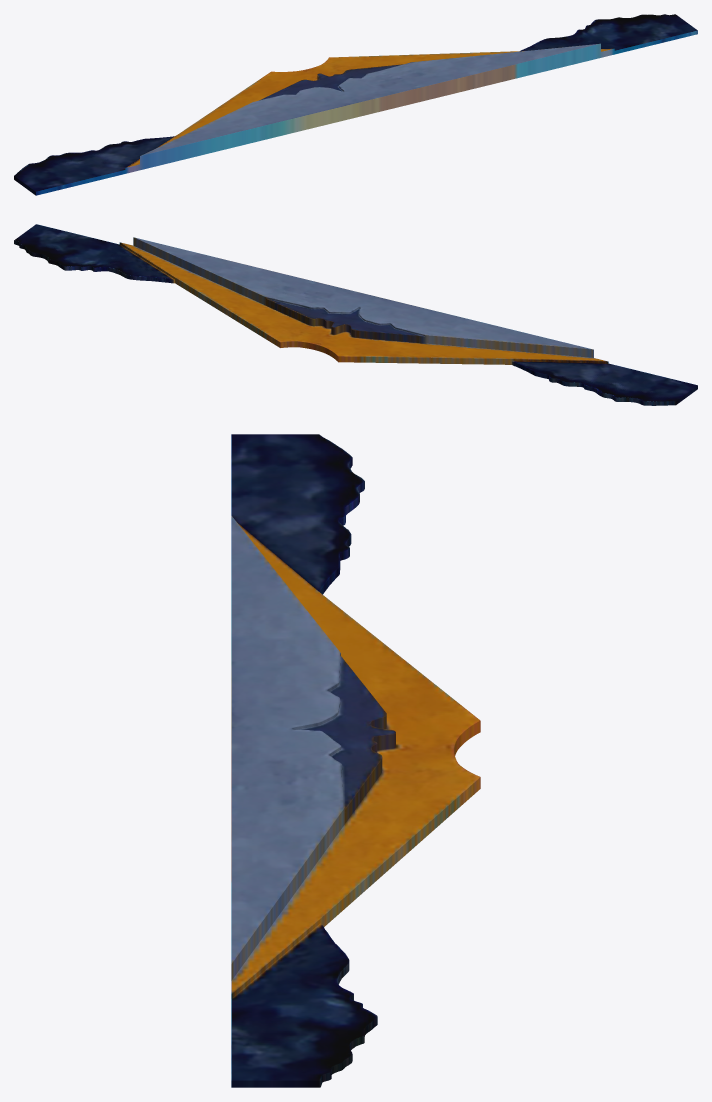
Rendered from El origen de nuestra 1.dae.
3 renders of one model, top to bottom at view 1: azimuth 30°, elevation 25°; view 2: azimuth 150°, elevation 25°; view 3: azimuth 270°, elevation 25°, orthographic. The views are drawn at different scales.
Visible parts, largest first — view 1: SketchUp; view 2: SketchUp; view 3: SketchUp.
Part boxes in pixels (bbox=[...]): SketchUp: bbox=[14, 14, 697, 195]; SketchUp: bbox=[14, 224, 697, 405]; SketchUp: bbox=[231, 434, 480, 1087].
Bounding box in the file's own units: 155 × 25.35 × 3.19.
Materials: 2 (1 with a texture image).
